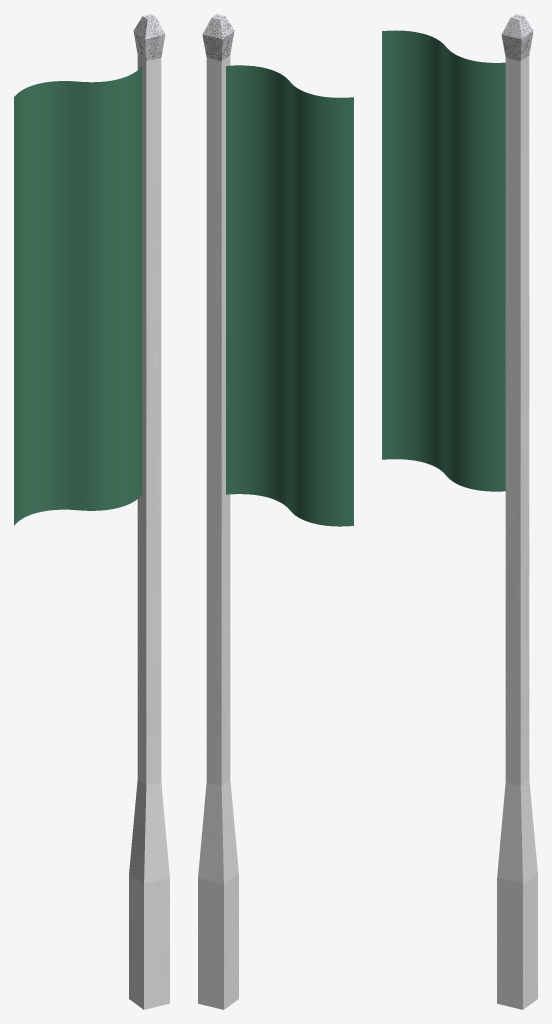
File: flagGreen.obj
3 renders of one model, left to right at view 1: azimuth 30°, elevation 25°; view 2: azimuth 150°, elevation 25°; view 3: azimuth 330°, elevation 25°, orthographic.
Parts seen in each view (by area): view 1: flagGreen, Group; view 2: flagGreen, Group; view 3: flagGreen, Group.
Part boxes in pixels (x1,y1,x2,y2): flagGreen: (14,66,141,525); Group: (129,14,169,1009); flagGreen: (226,65,353,526); Group: (198,14,238,1009); flagGreen: (382,30,505,491); Group: (497,14,537,1009).
Size of the model in its own units: 0.1972 by 1.25 by 0.0352.
